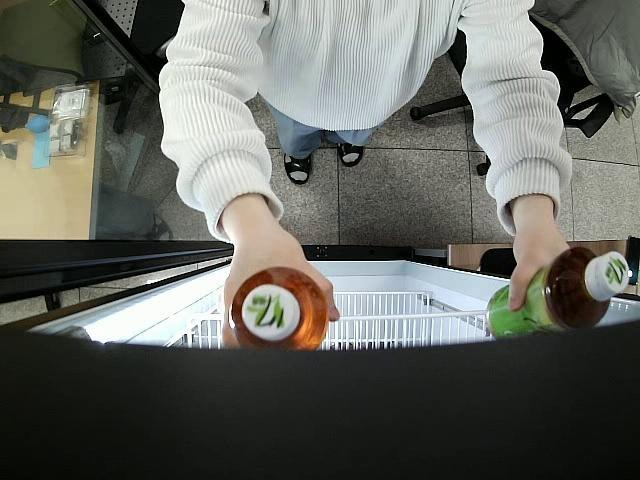19_17cha: (485, 249, 628, 338), (230, 267, 328, 350)
